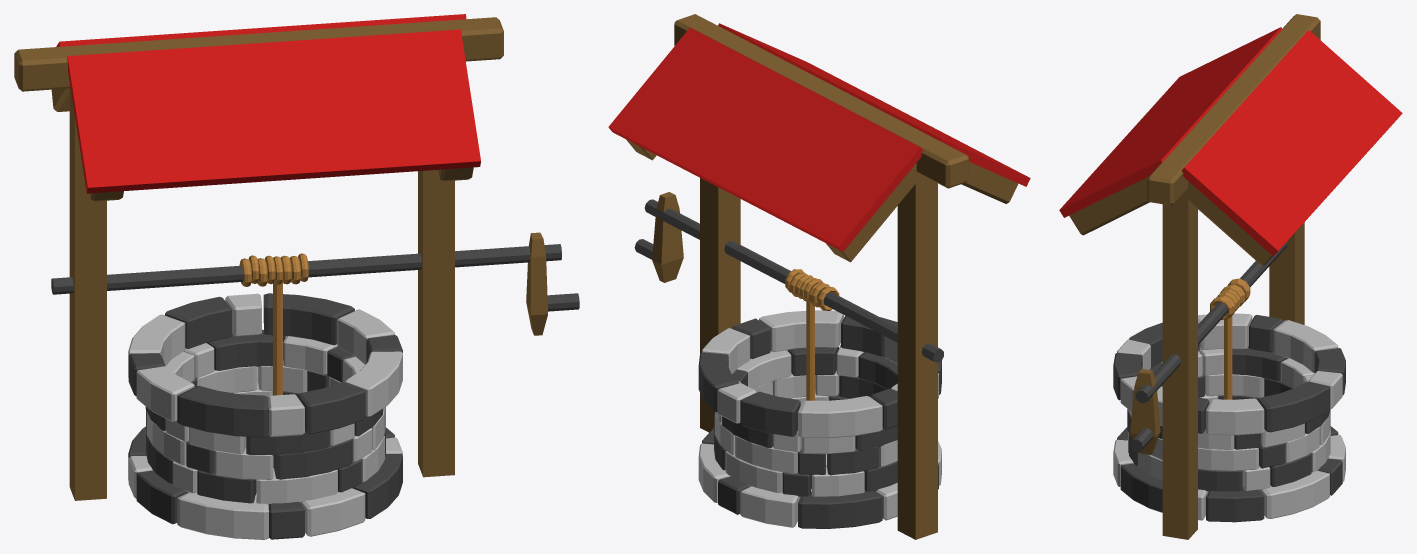
Rendered from well_lev4.glb.
3 renders of one model, left to right at view 1: azimuth 30°, elevation 25°; view 2: azimuth 150°, elevation 25°; view 3: azimuth 270°, elevation 25°, orthographic. The views are drawn at different scales.
Visible parts, largest first — view 1: well_lev4; view 2: well_lev4; view 3: well_lev4.
Part boxes in pixels (<box>): well_lev4: <box>14,14,579,539</box>; well_lev4: <box>608,14,1030,539</box>; well_lev4: <box>1059,14,1402,539</box>.
Size of the model in its own units: 0.6747 by 0.6149 by 0.5064.
